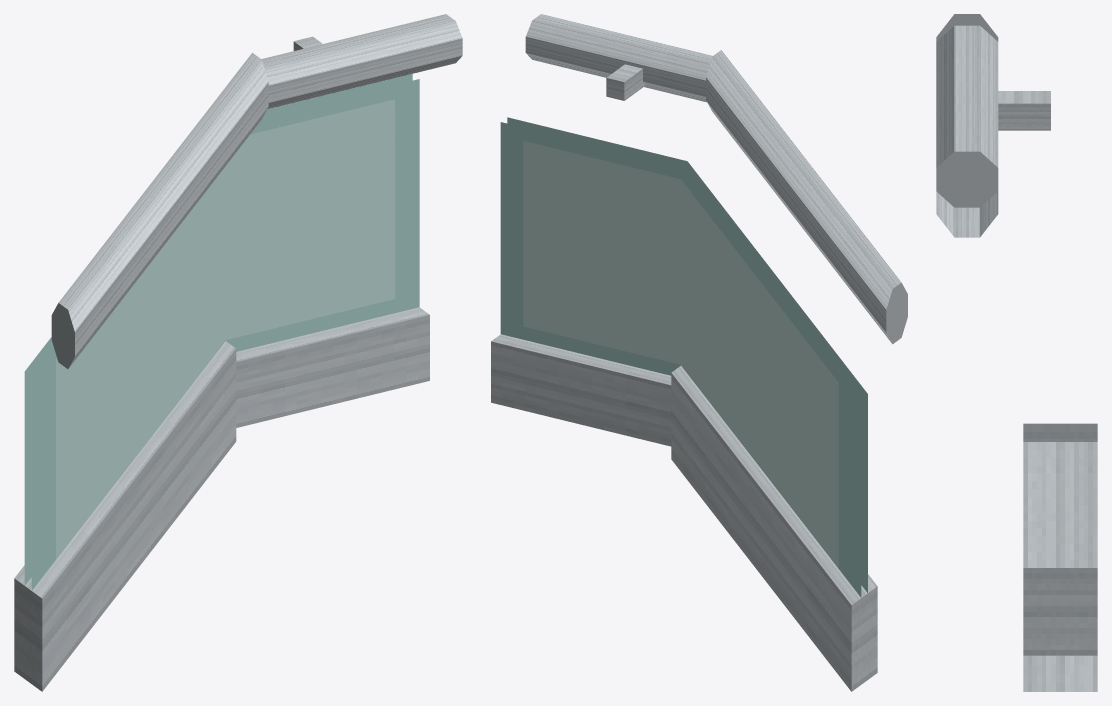
File: top_pos.obj
3 views of the same model, side by side, from view 1: azimuth 30°, elevation 25°; view 2: azimuth 150°, elevation 25°; view 3: azimuth 270°, elevation 25° (orthographic). The views are drawn at different scales.
Parts seen in each view (by area): view 1: railing_glass_stainless_top_pos; view 2: railing_glass_stainless_top_pos; view 3: railing_glass_stainless_top_pos.
Boxes of the visible parts, x1,y1,x2,y2 form: railing_glass_stainless_top_pos: (14, 14, 462, 691); railing_glass_stainless_top_pos: (491, 14, 907, 691); railing_glass_stainless_top_pos: (936, 14, 1097, 691).
Size of the model in its own units: 1 by 1.49 by 0.2707.
